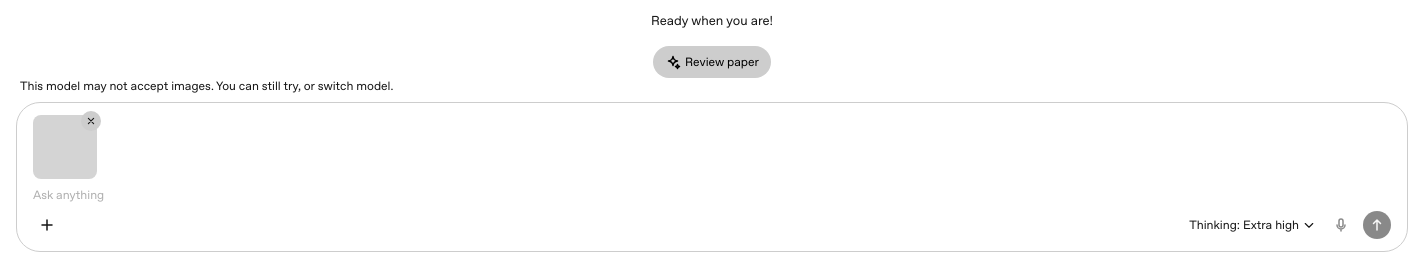
Composer image attachments › sends attachments with the message and clears the thumbnails
The image size is (1425, 269).
Type "look" into the text box labelled "Ask anything" at (712, 195), box [33,187,1391,203]
Then press Enter
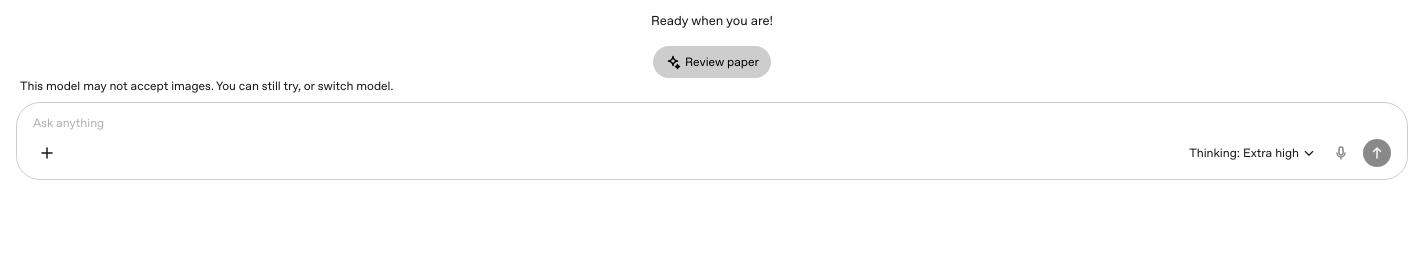
Now the element with test id "pasted-image" is gone
